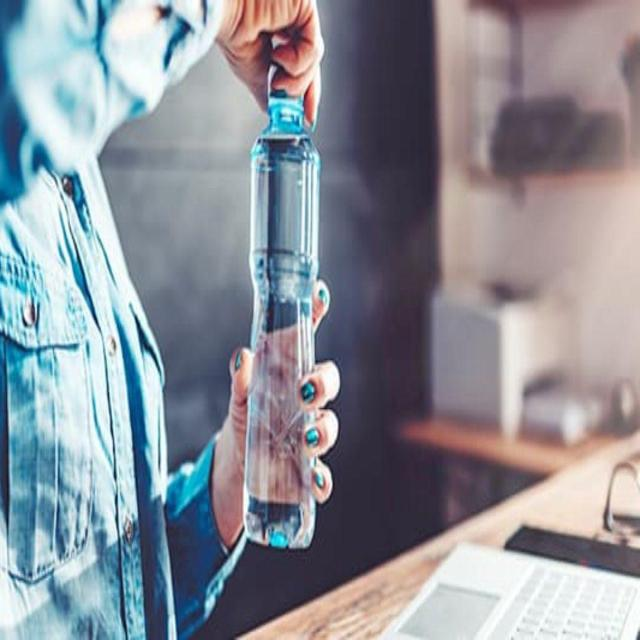bottle: (246, 75, 318, 552)
